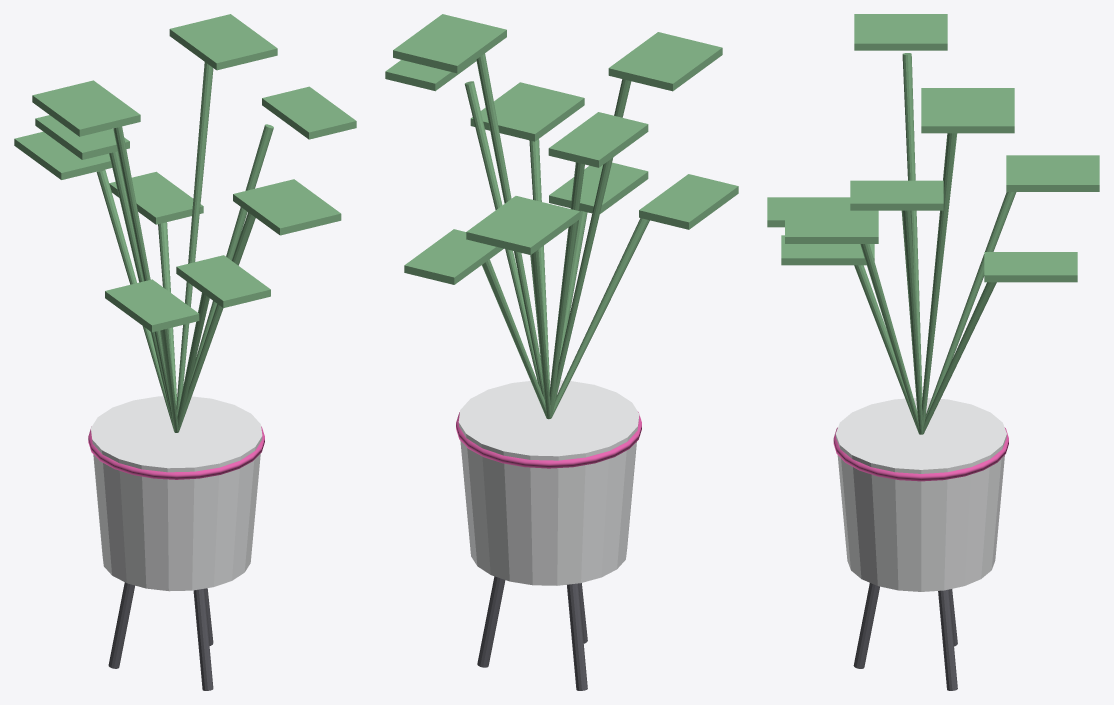
Rendered from plant.glb.
The picture shows the model from 3 angles, left to right: view 1: azimuth 30°, elevation 25°; view 2: azimuth 150°, elevation 25°; view 3: azimuth 270°, elevation 25°; orthographic projection. The views are drawn at different scales.
Parts seen in each view (by area): view 1: studio-plant-pot; view 2: studio-plant-pot; view 3: studio-plant-pot.
Part boxes in pixels (x1=…): studio-plant-pot: x1=14, y1=14, x2=356, y2=690; studio-plant-pot: x1=385, y1=14, x2=738, y2=690; studio-plant-pot: x1=767, y1=14, x2=1099, y2=690.
Bounding box in the file's own units: 0.81 × 1.67 × 0.8541.
